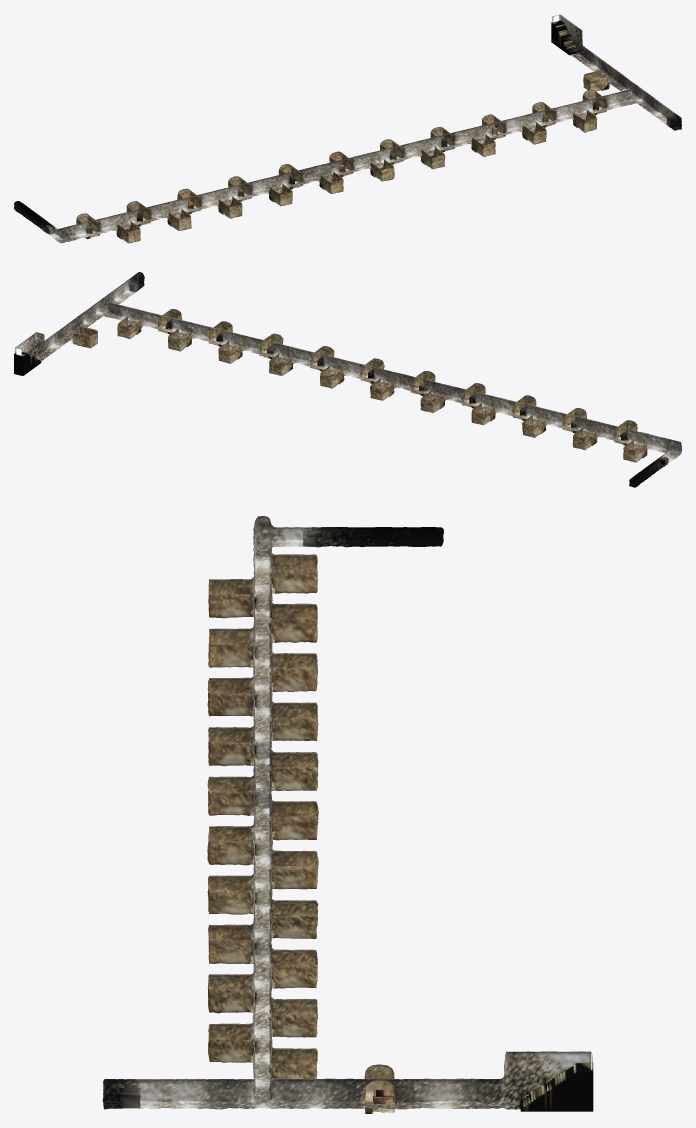
Rendered from serapeum.glb.
3 renders of one model, top to bottom at view 1: azimuth 30°, elevation 25°; view 2: azimuth 150°, elevation 25°; view 3: azimuth 270°, elevation 25°, orthographic. The views are drawn at different scales.
Visible parts, largest first — view 1: rock, steps, wood, granite_grey; view 2: rock, steps, wood, granite_black, granite_grey; view 3: rock, steps.
Part boxes in pixels (x1=…): rock: x1=14, y1=14, x2=681, y2=243; steps: x1=85, y1=20, x2=608, y2=239; wood: x1=90, y1=75, x2=606, y2=231; granite_grey: x1=45, y1=113, x2=676, y2=234; rock: x1=14, y1=272, x2=681, y2=487; steps: x1=14, y1=328, x2=647, y2=458; wood: x1=72, y1=320, x2=642, y2=447; granite_black: x1=127, y1=320, x2=627, y2=440; granite_grey: x1=129, y1=279, x2=668, y2=464; rock: x1=102, y1=516, x2=592, y2=1112; steps: x1=250, y1=573, x2=593, y2=1113.
Size of the model in its own units: 254 by 13.37 by 92.36.
